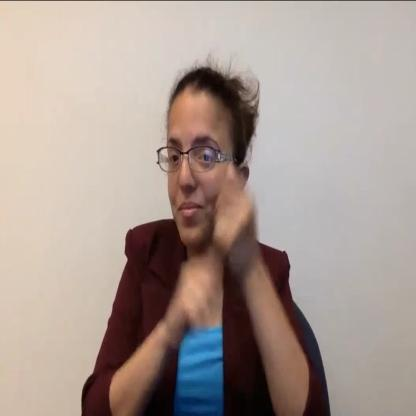HowAreYou: (167, 171, 252, 339)
